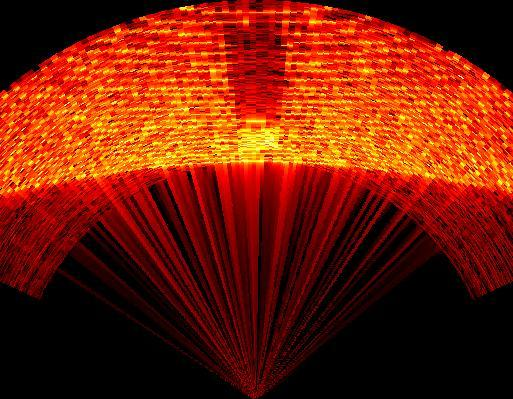box_crate: (220, 2, 288, 126)
